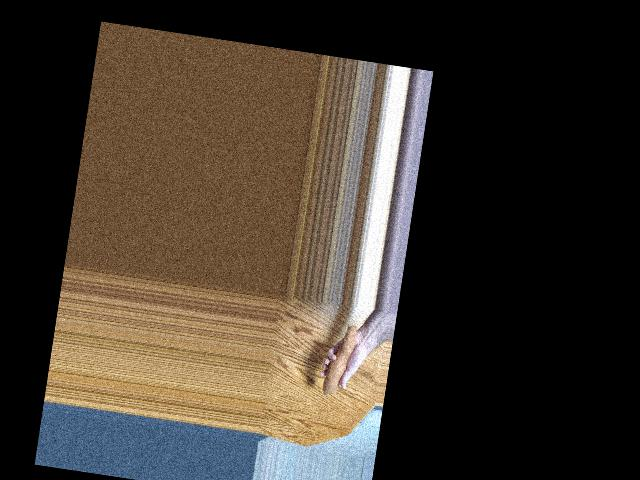sweet_potato: (321, 324, 358, 399)
